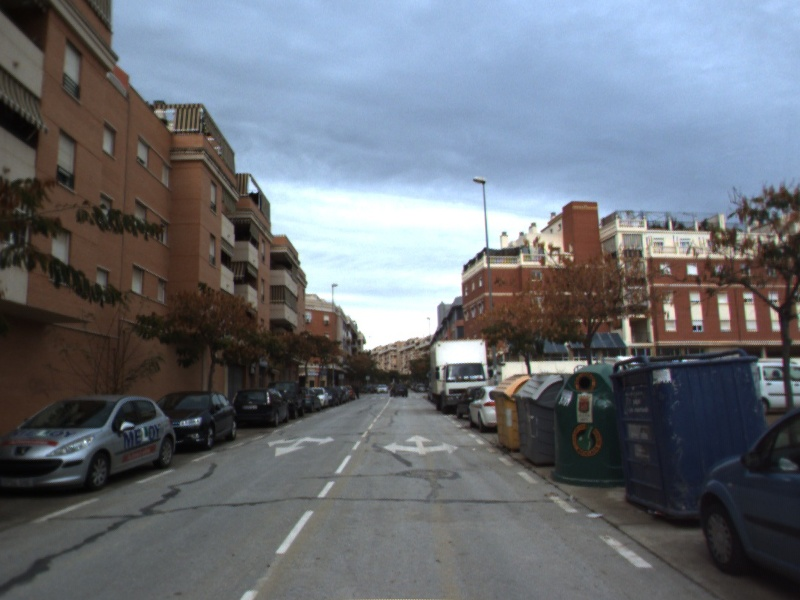STRAIGHT_LEFT_RIGHT: (380, 432, 460, 457)
